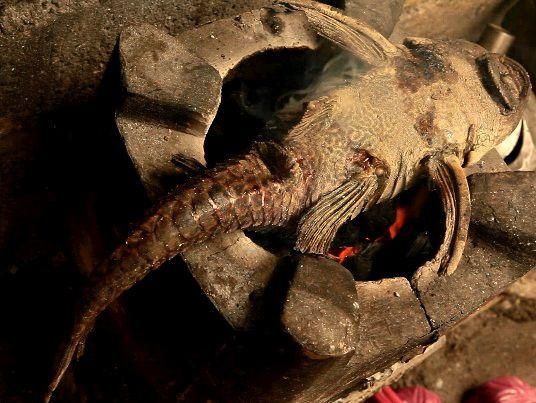Janitor Fish: (4, 1, 536, 403)
